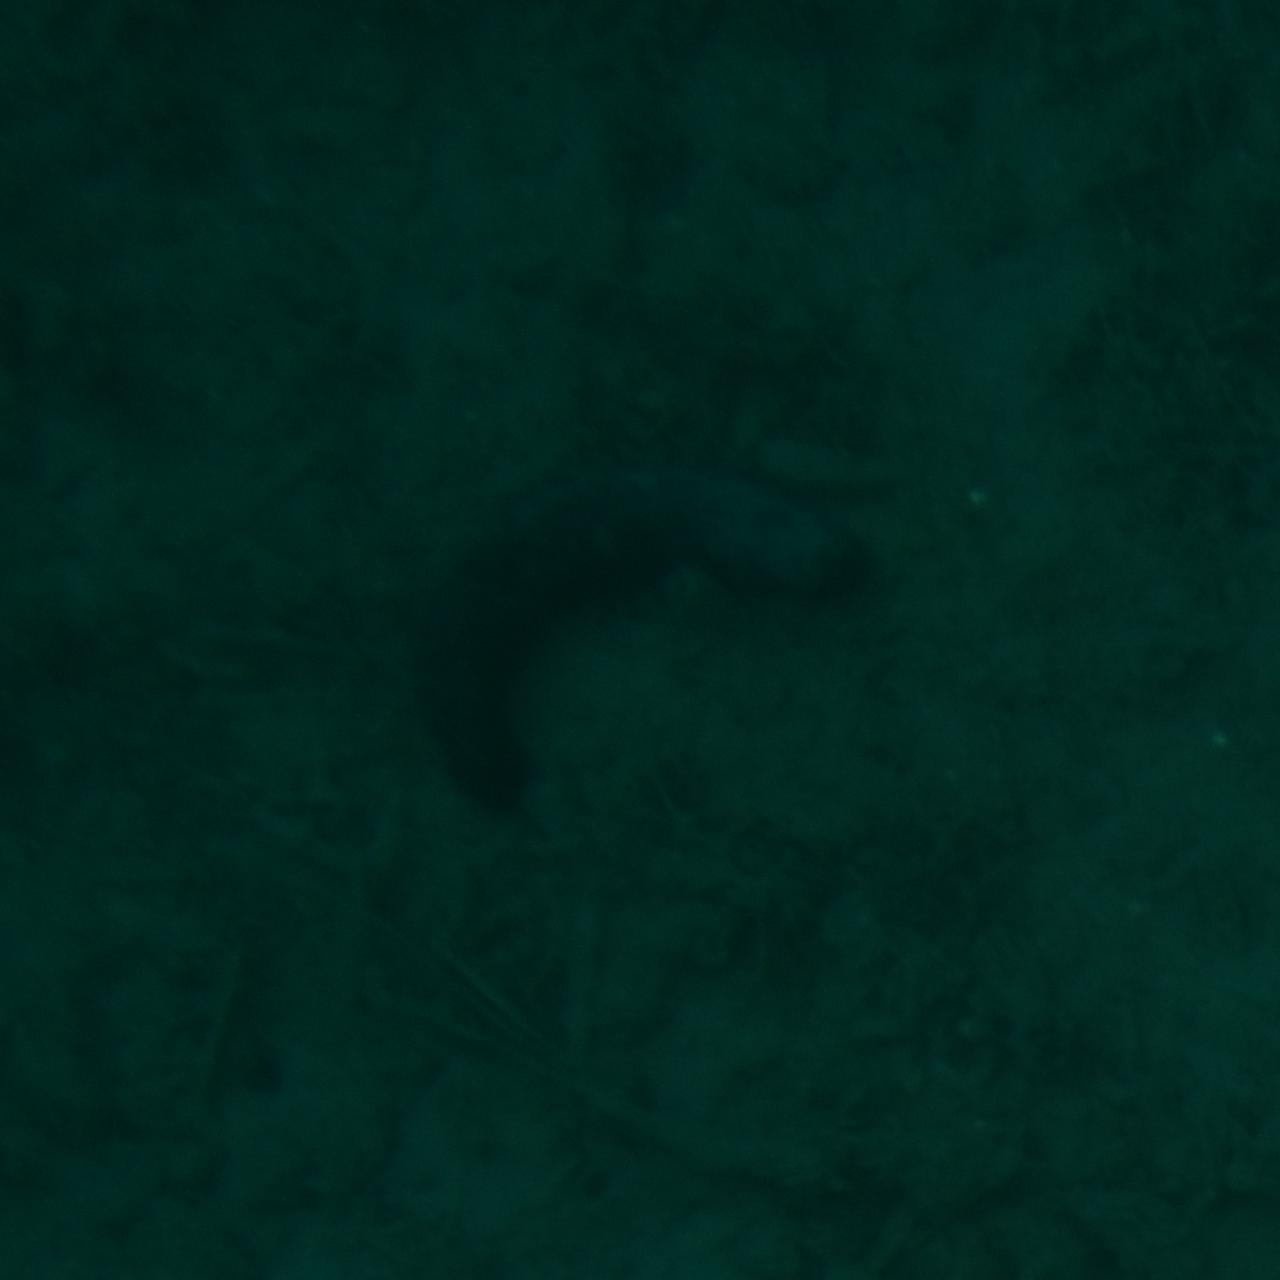Holothuria tubulosa: (414, 456, 866, 824)
